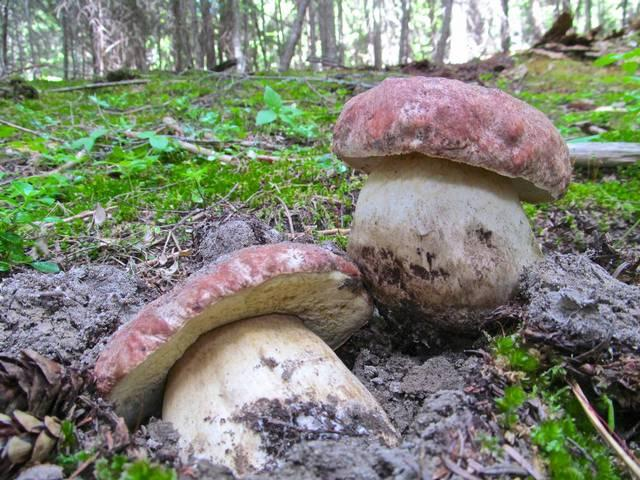edible_mushroom: (94, 238, 407, 480), (330, 73, 573, 342)
